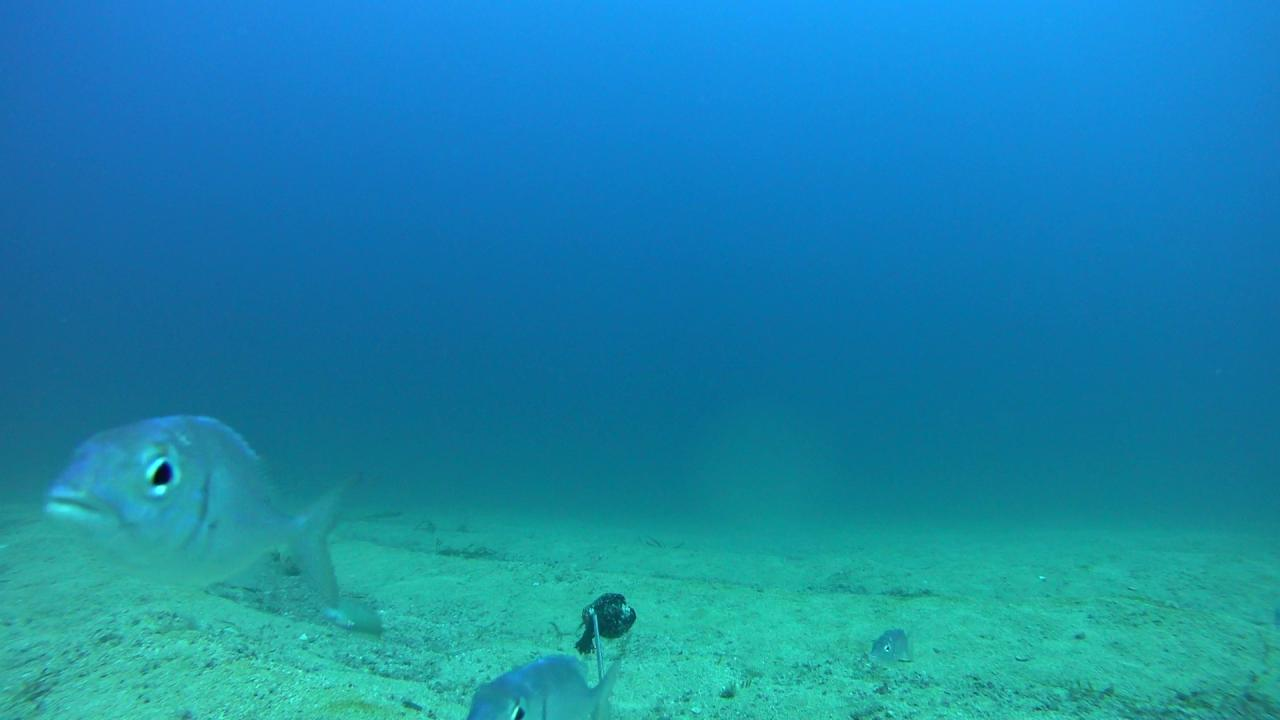pagellus: (45, 415, 364, 606), (868, 627, 917, 666)
